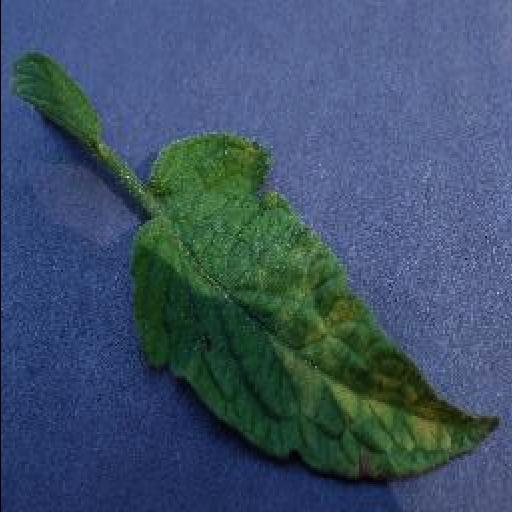disease_tomato: (128, 138, 502, 482)
